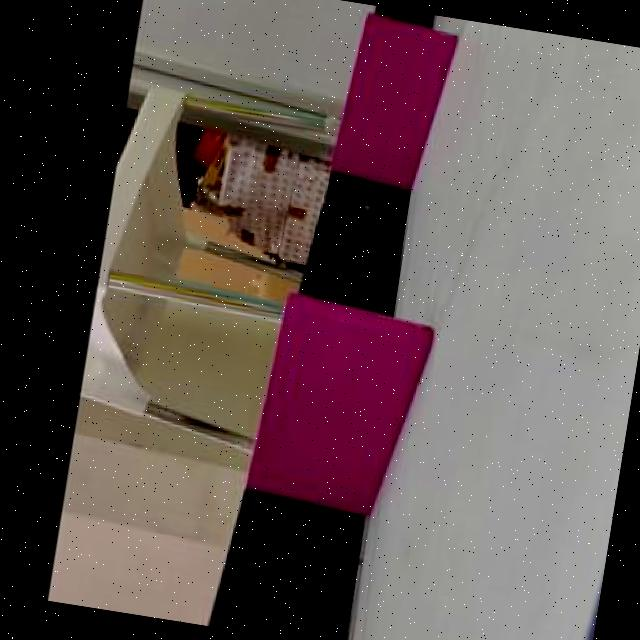xparking: (260, 299, 419, 502), (343, 17, 447, 176)
